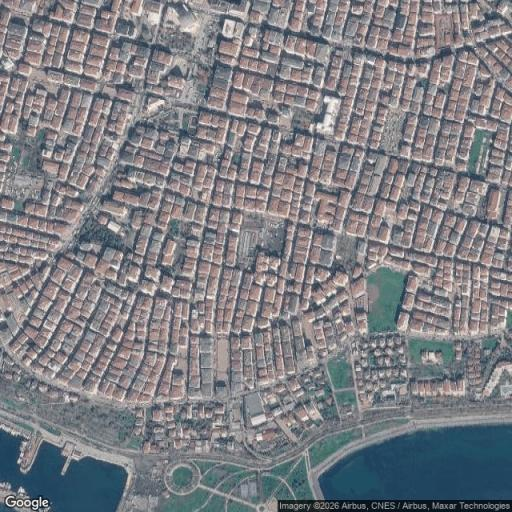ship: (0, 425, 19, 437), (16, 452, 24, 465), (20, 441, 27, 453), (0, 483, 11, 489), (18, 488, 25, 495)
